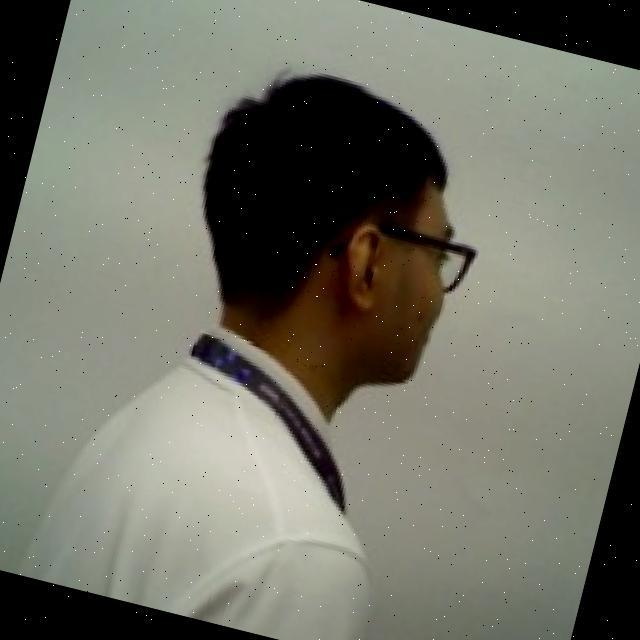no_gloves: (155, 24, 486, 298)
no_hairnet: (300, 216, 474, 401)
